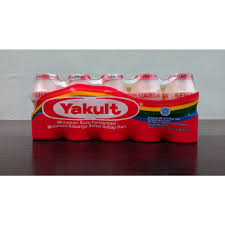Yakult (325ml): (29, 69, 201, 143)
